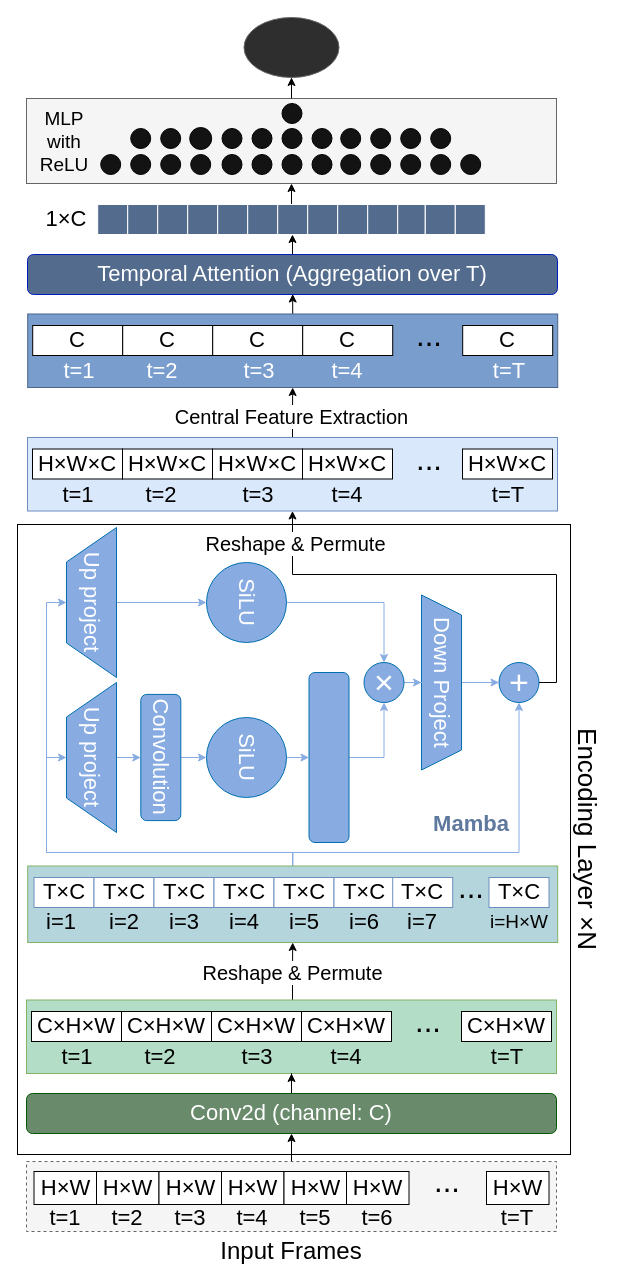
Some shapes in this 620 by 1284 pixel diagram are drawn without their labels. Each missing label, with the centre of its shape:
"Output" goes at point 291,47.
"Selective SSM" goes at point 328,757.
